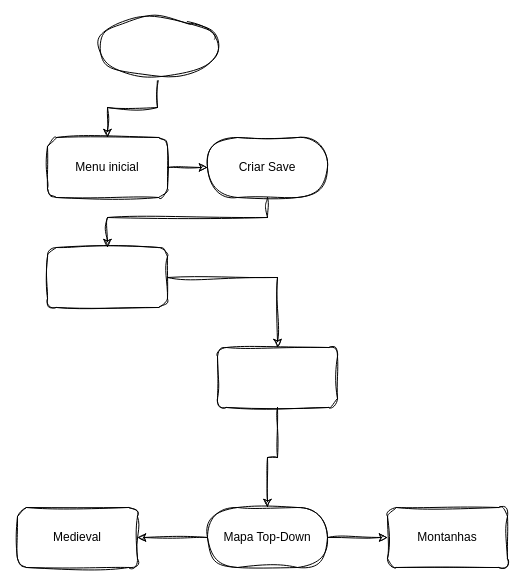
This 525x585 diagram has some shape labels left out. Here are the shapes that lost their labels. From the top down, the centre of each, then its label:
At point (157, 47): "Início".
At point (107, 277): "Cutscene de entrada".
At point (277, 377): "Caverna".
